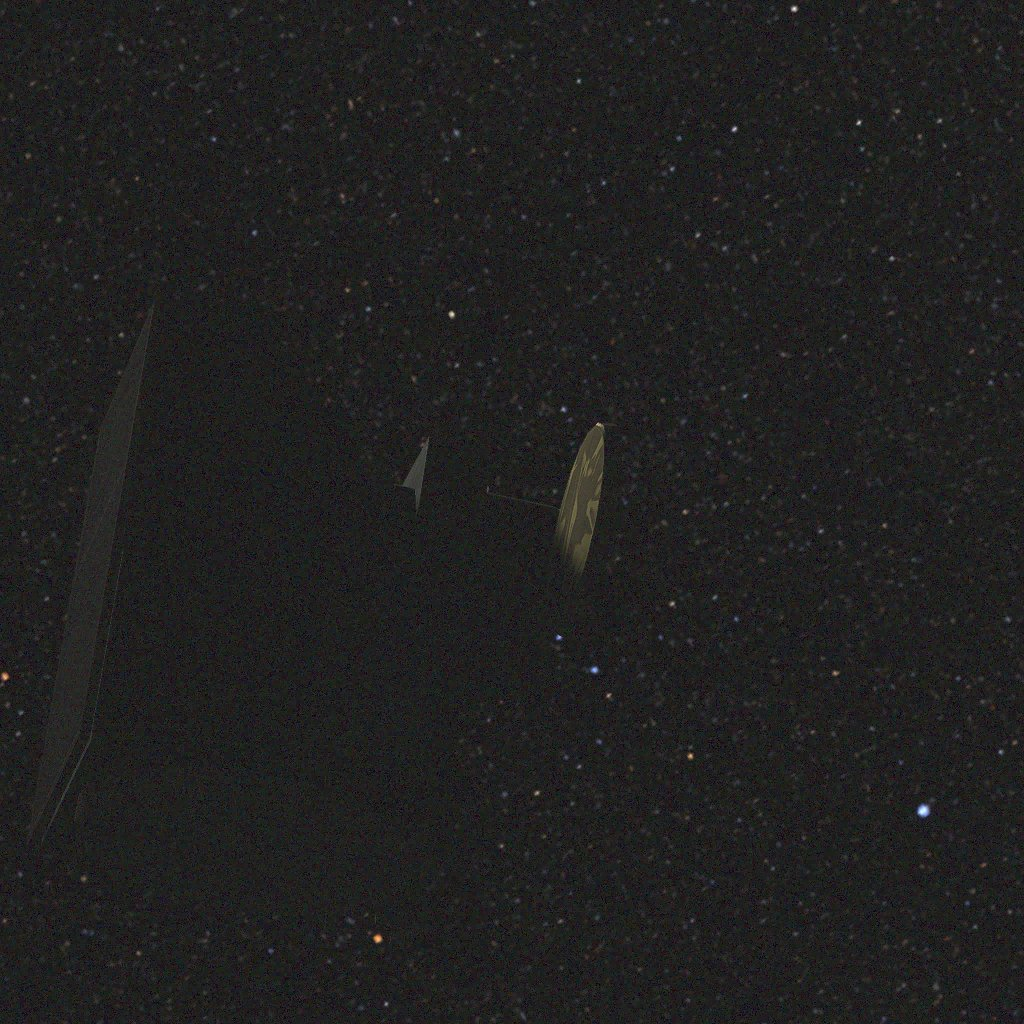cheops: (26, 291, 622, 949)
